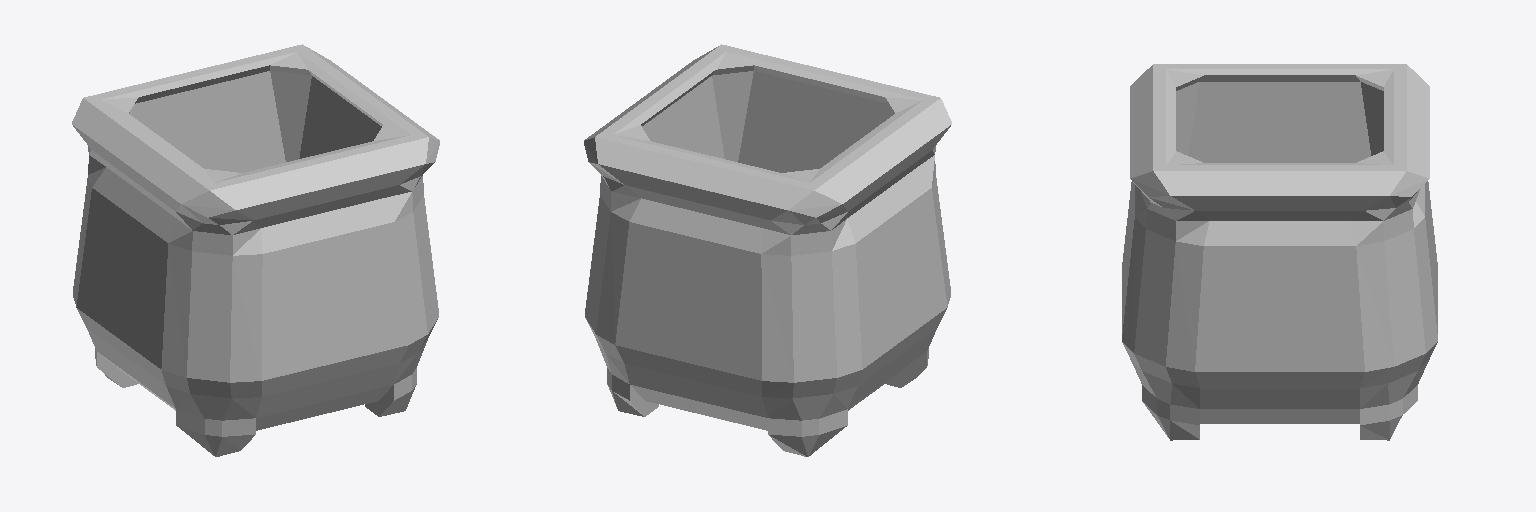
The model's file is cauldron.obj.
The picture shows the model from 3 angles: view 1: azimuth 30°, elevation 25°; view 2: azimuth 150°, elevation 25°; view 3: azimuth 270°, elevation 25°; orthographic projection.
Parts seen in each view (by area): view 1: Cube; view 2: Cube; view 3: Cube.
Part boxes in pixels (left/top/right/bottom): Cube: left=72, top=44, right=439, bottom=456; Cube: left=584, top=44, right=951, bottom=456; Cube: left=1122, top=64, right=1437, bottom=440.
Size of the model in its own units: 2.11 by 2.04 by 2.11.